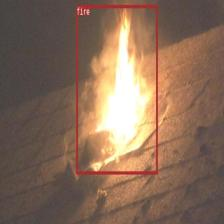fire: (76, 4, 158, 174)
